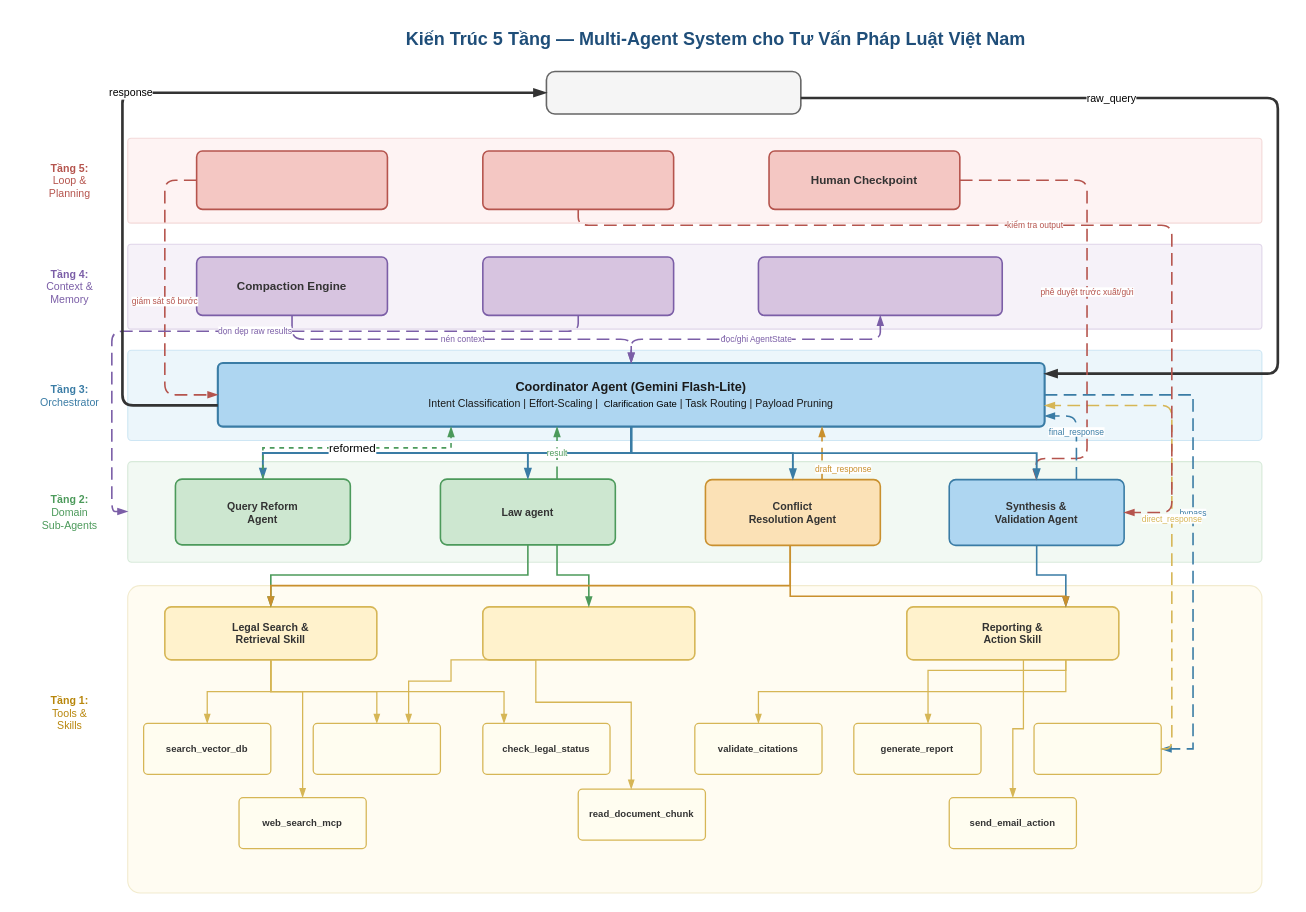
The diagram is 1306 pixels wide and 912 high, and some of its shapes have lost their labels. The shapes that lost their labels are listed below. From the top down, each one's centre as x and y in pixels, then its label:
At pixel 673 92: "👤 Người dùng (User)".
At pixel 291 180: "Loop Controller".
At pixel 578 180: "Verifier / Checker".
At pixel 578 286: "Tool-Result Clearing".
At pixel 880 286: "Memory Store".
At pixel 588 633: "Deep Analysis & Extraction Skill".
At pixel 376 748: "search_legal_graph".
At pixel 1097 748: "answer_directly".
